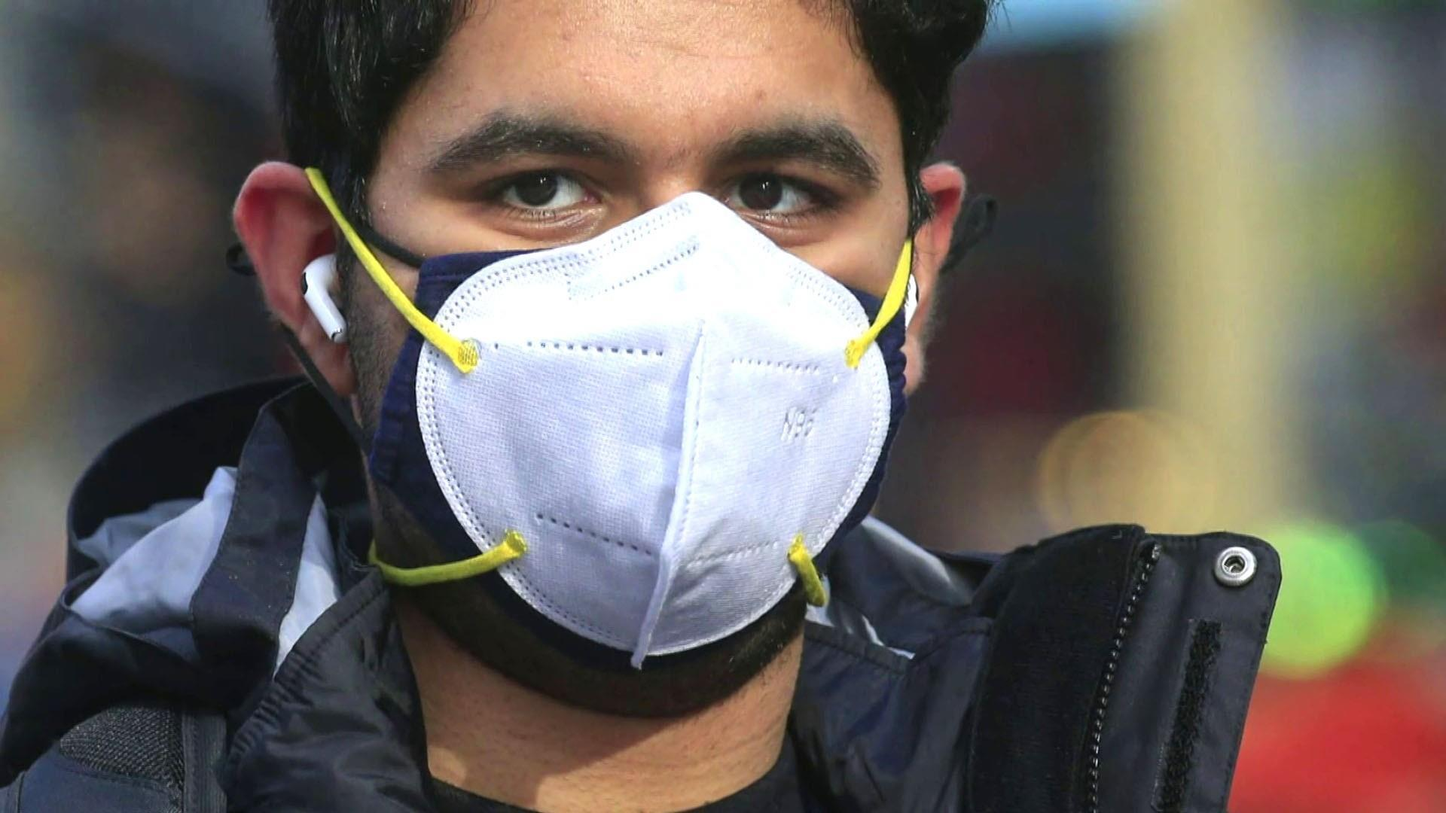mask: (364, 178, 932, 725)
